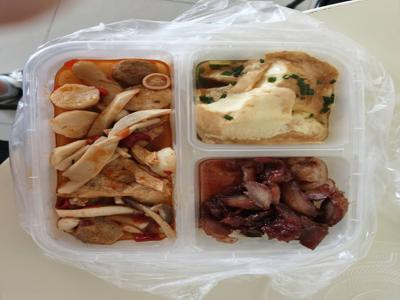df: (194, 57, 346, 149)
r1: (197, 158, 352, 250)
